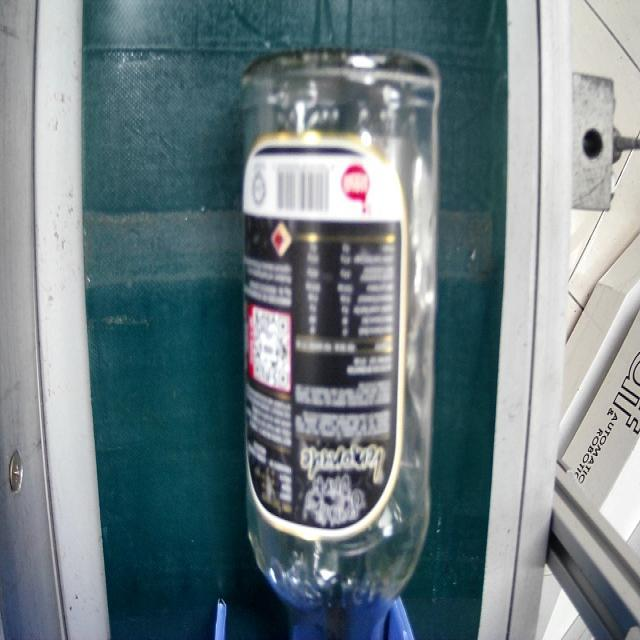Glass: (237, 46, 440, 640)
